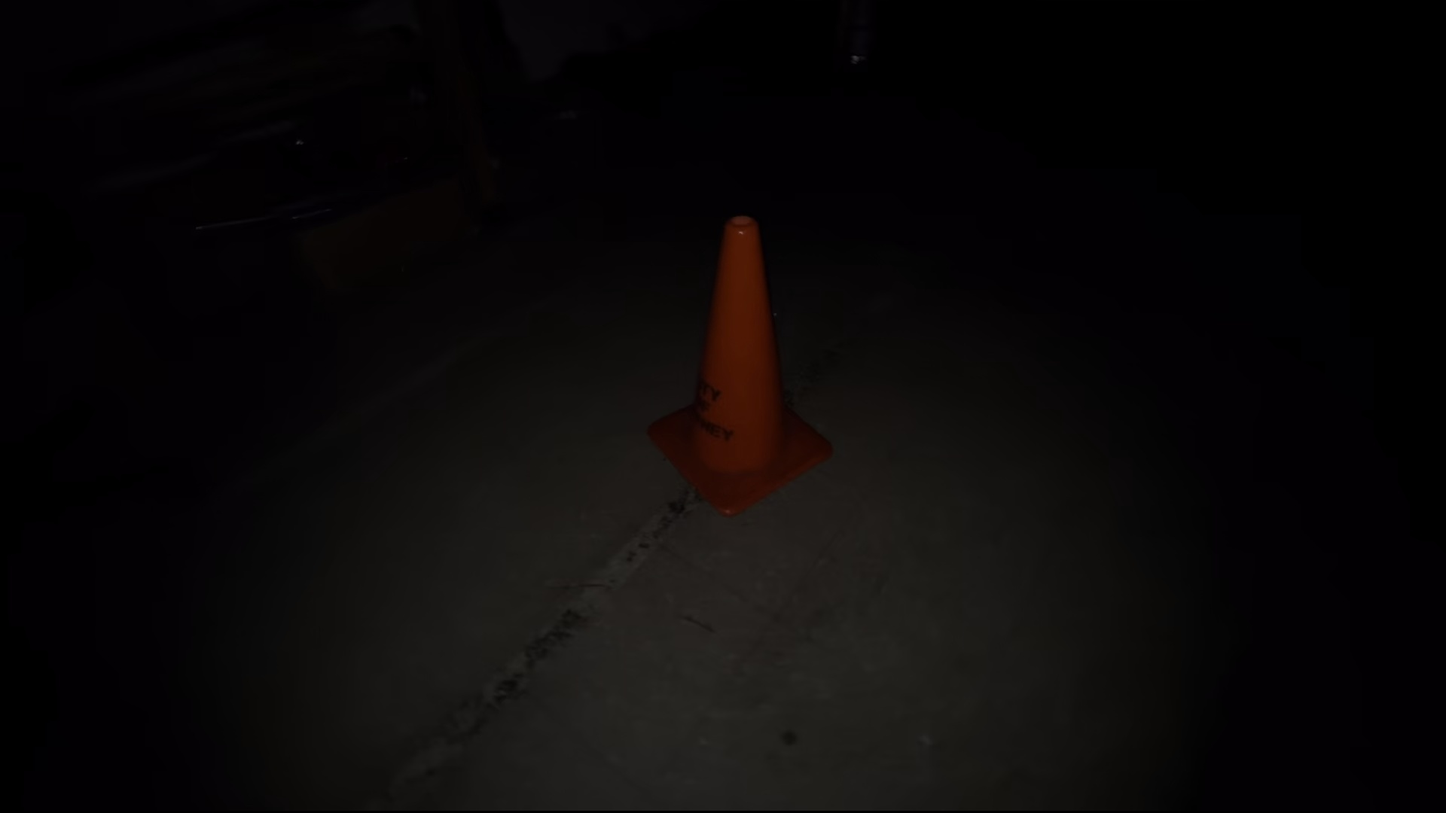traffic_cone: (645, 214, 834, 517)
